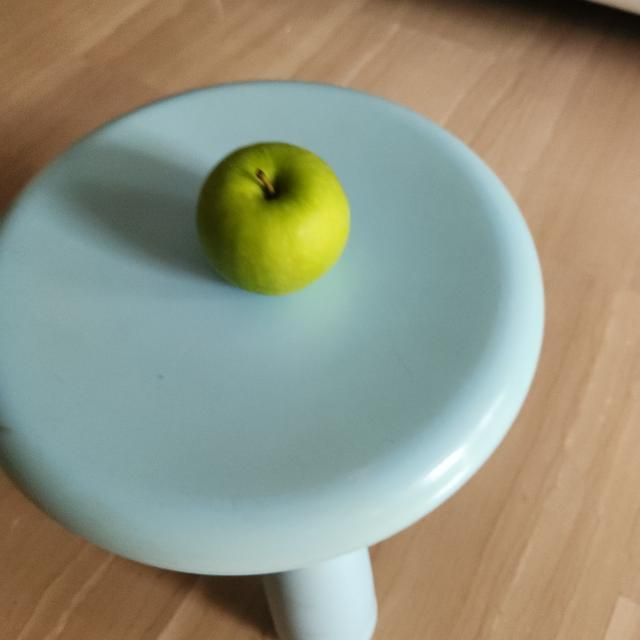apple: (198, 141, 344, 300)
